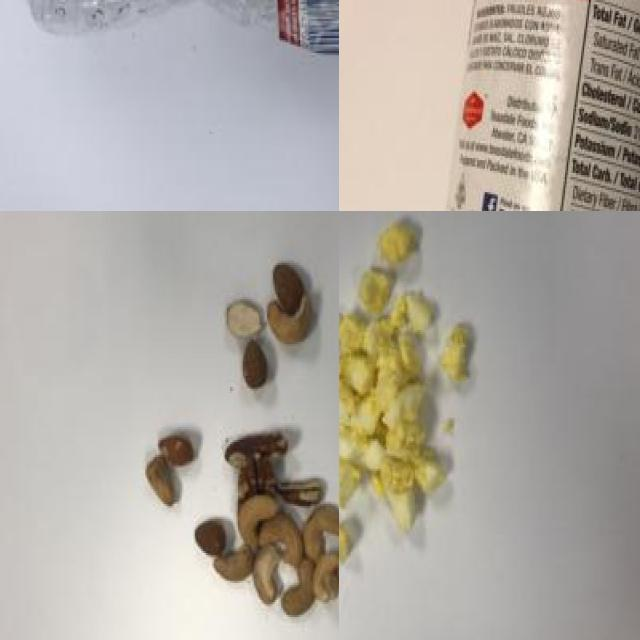compost: (139, 259, 339, 632), (339, 211, 494, 577)
plastic: (433, 0, 640, 211), (27, 0, 339, 67)
